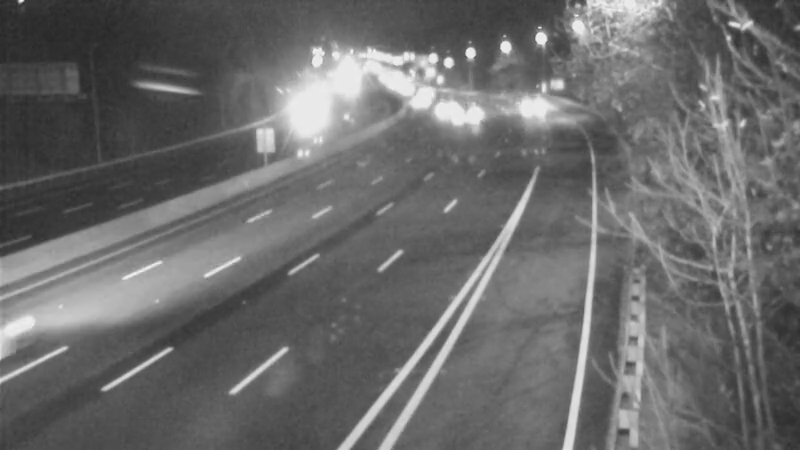vehicle: (400, 69, 450, 119), (501, 82, 551, 132), (395, 77, 445, 127), (414, 86, 464, 136), (440, 89, 490, 139)
